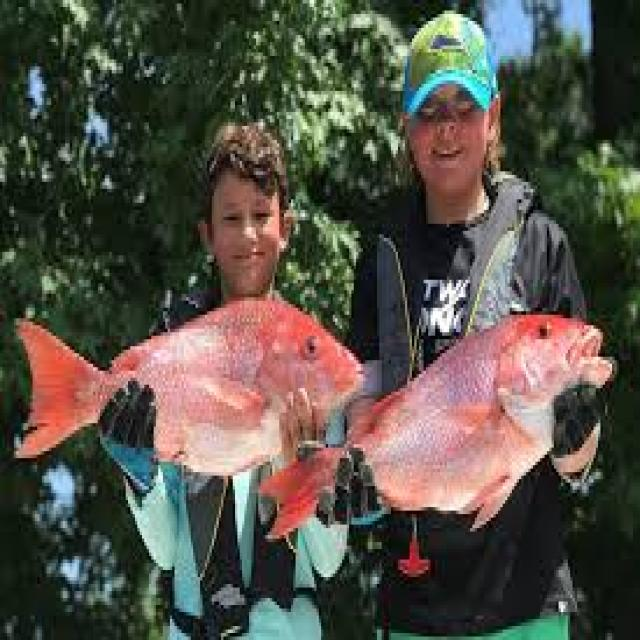northern-red-snapper: (256, 308, 616, 542), (12, 289, 370, 467)
